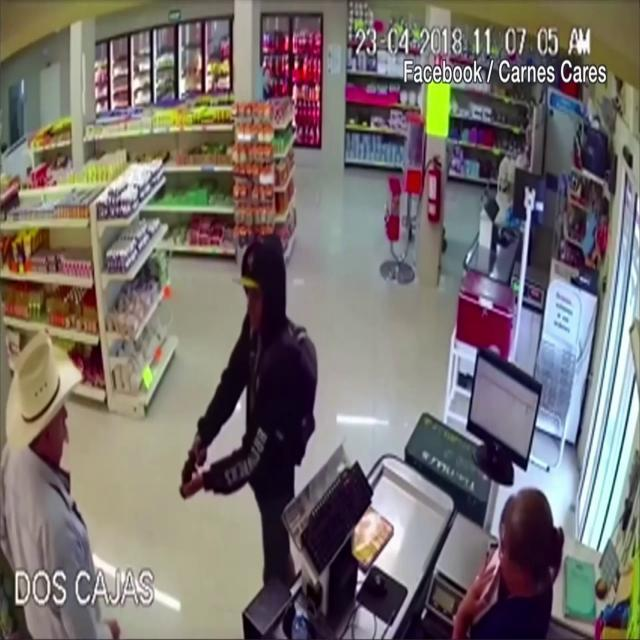gun: (180, 449, 205, 498)
